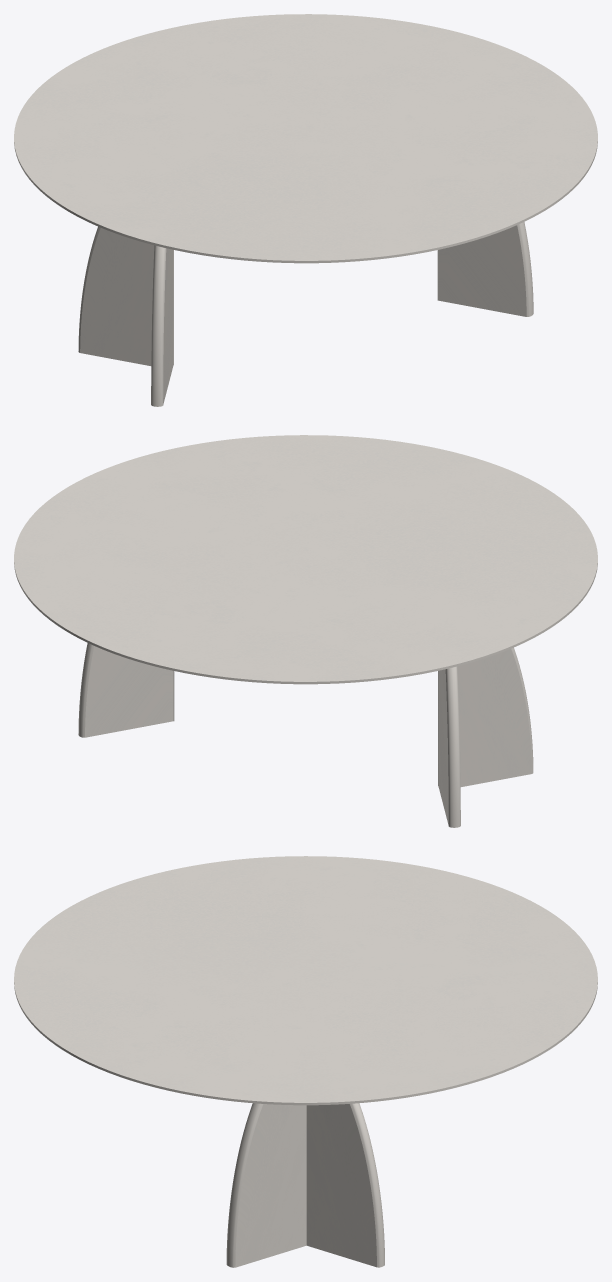
File: pearlwhite_round_facet_newtable2.glb
The picture shows the model from 3 angles, top to bottom: view 1: azimuth 30°, elevation 25°; view 2: azimuth 150°, elevation 25°; view 3: azimuth 270°, elevation 25°; orthographic projection.
Parts seen in each view (by area): view 1: facet_round, newtable2_singleleft1, newtable2_singleright2, newtable2_singleright1; view 2: facet_round, newtable2_singleright1, newtable2_singleleft2, newtable2_singleleft1; view 3: facet_round, newtable2_singleright2, newtable2_singleleft2.
Part boxes in pixels (bbox=[...]): facet_round: bbox=[14, 14, 597, 263]; newtable2_singleleft1: bbox=[78, 226, 173, 365]; newtable2_singleright2: bbox=[437, 222, 533, 316]; newtable2_singleright1: bbox=[151, 245, 173, 406]; facet_round: bbox=[14, 435, 597, 684]; newtable2_singleright1: bbox=[438, 647, 533, 786]; newtable2_singleleft2: bbox=[78, 643, 173, 737]; newtable2_singleleft1: bbox=[438, 666, 460, 827]; facet_round: bbox=[14, 856, 597, 1105]; newtable2_singleright2: bbox=[226, 1103, 306, 1267]; newtable2_singleleft2: bbox=[306, 1103, 384, 1267].
Size of the model in its own units: 6.75 by 2.49 by 6.75.
Materials: 1 (1 with a texture image).
